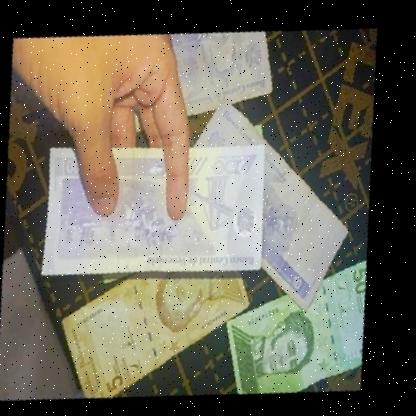fifty-front-vef: (220, 241, 392, 407)
five-front-vef: (53, 242, 262, 416)
two_hundred-back-vef: (27, 116, 291, 301)
